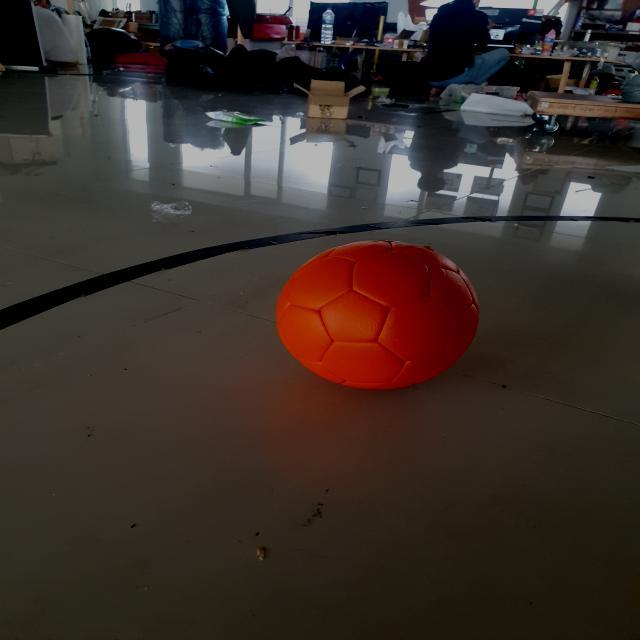bola: (270, 236, 487, 394)
